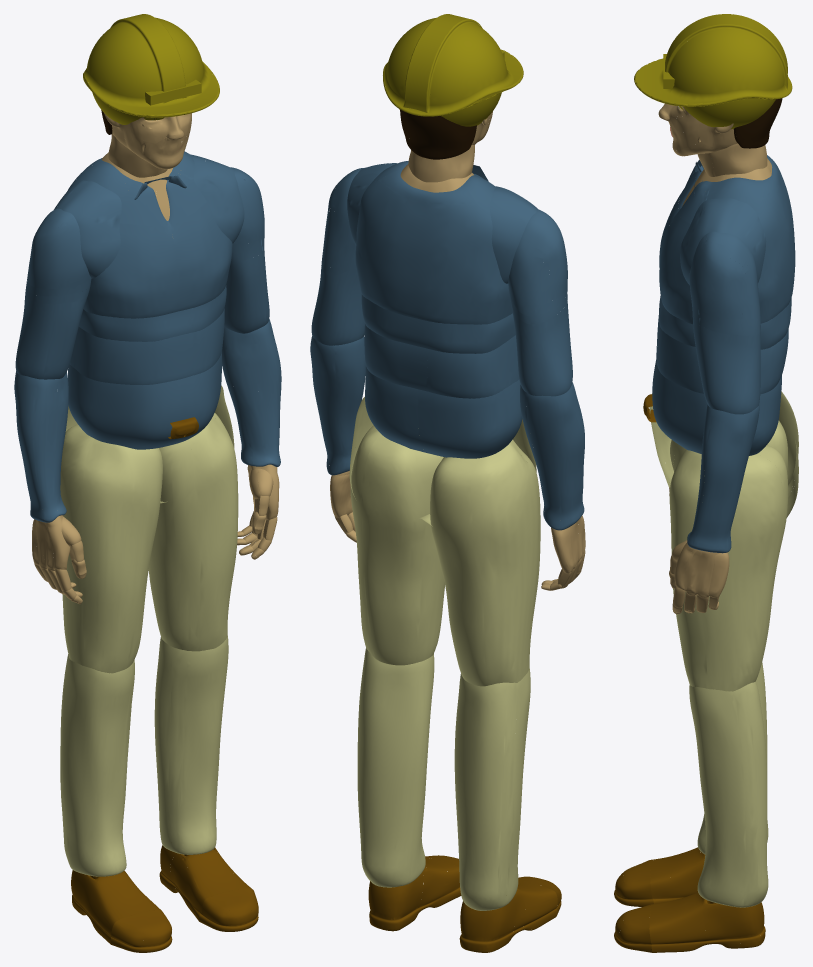
File: person_supplied.glb
3 renders of one model, left to right at view 1: azimuth 30°, elevation 25°; view 2: azimuth 150°, elevation 25°; view 3: azimuth 270°, elevation 25°, orthographic. The views are drawn at different scales.
Visible parts, largest first — view 1: PersonSupplied; view 2: PersonSupplied; view 3: PersonSupplied.
Part boxes in pixels (bbox=[...]): PersonSupplied: bbox=[14, 14, 281, 952]; PersonSupplied: bbox=[310, 14, 585, 952]; PersonSupplied: bbox=[614, 14, 798, 952].
Bounding box in the file's own units: 0.5266 × 1.72 × 0.3205.
